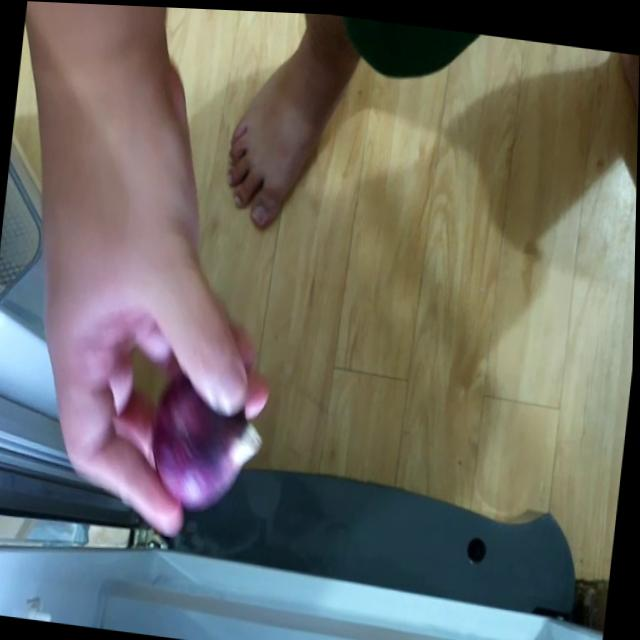onion: (144, 361, 259, 520)
